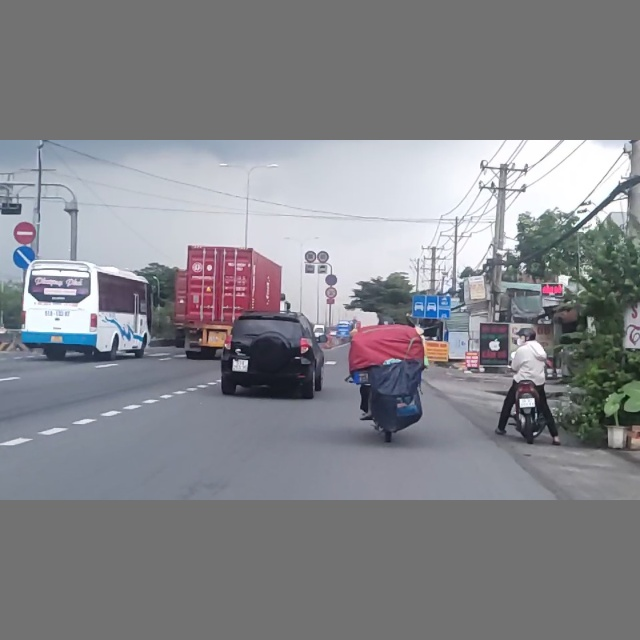P.102: (13, 221, 37, 245)
P.130: (325, 274, 337, 286)
R.302a: (13, 245, 37, 269)
R.415a: (412, 294, 451, 319)
